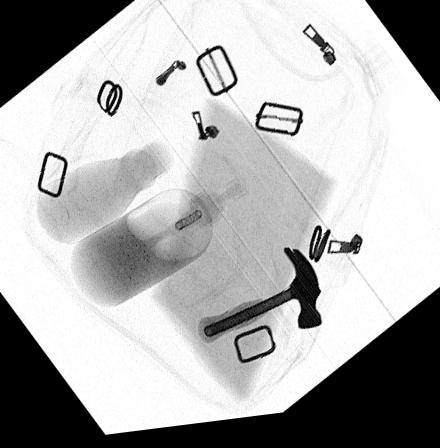Hammer: (195, 253, 321, 350)
